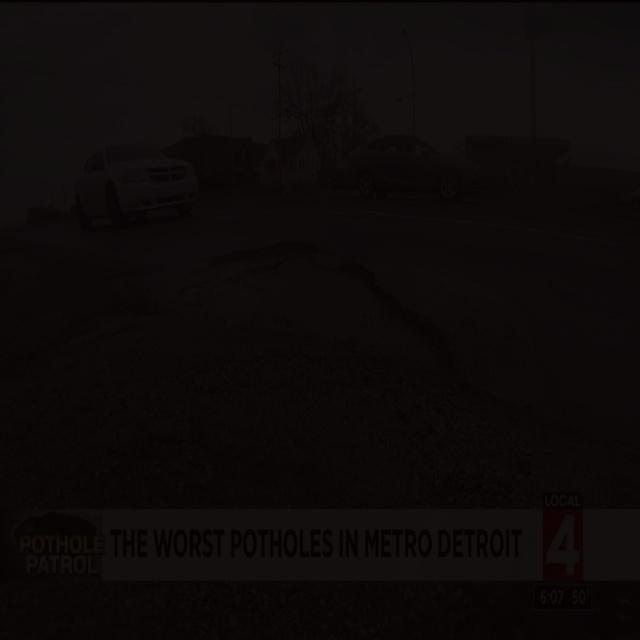Pothole: (188, 230, 466, 398)
